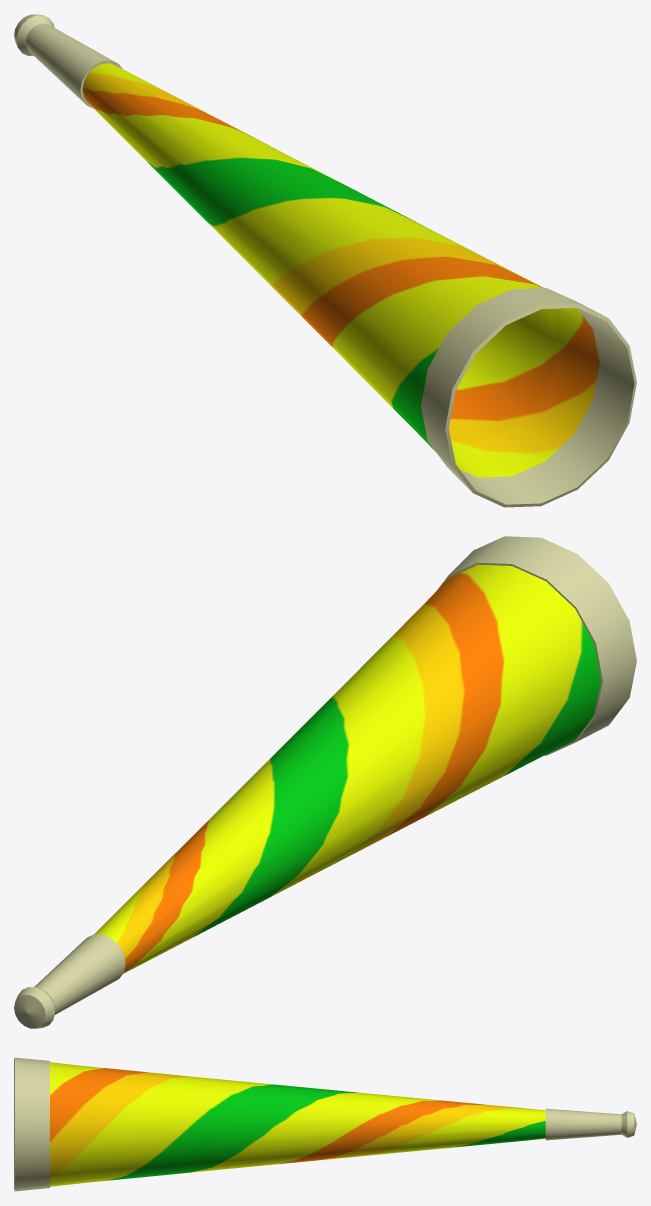
The model's file is party horn.FBX.
3 views of the same model, one above another, from view 1: azimuth 30°, elevation 25°; view 2: azimuth 150°, elevation 25°; view 3: azimuth 270°, elevation 25° (orthographic). The views are drawn at different scales.
Visible parts, largest first — view 1: party horn; view 2: party horn; view 3: party horn.
Part boxes in pixels (left/top/right/bottom): party horn: left=14, top=14, right=636, bottom=507; party horn: left=14, top=536, right=636, bottom=1028; party horn: left=14, top=1057, right=636, bottom=1191.
Bounding box in the file's own units: 0.0494 × 0.2294 × 0.0494.
